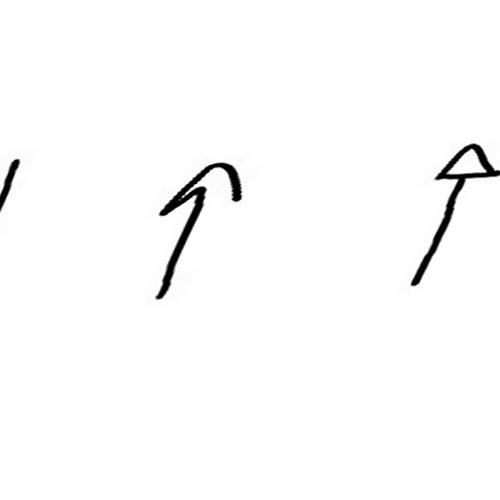arrow: (411, 141, 497, 283), (158, 164, 241, 296)
arrownohead: (2, 157, 21, 210)
